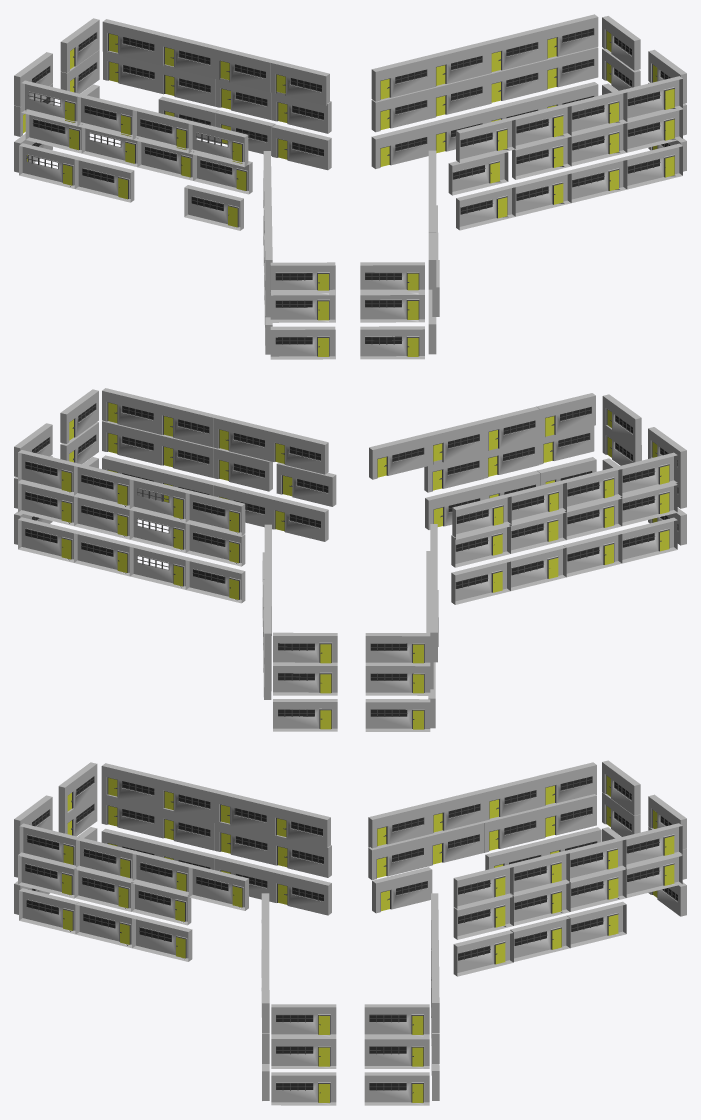
The model's file is appart.fbx.
The picture shows the model from 3 angles, top to bottom: view 1: azimuth 30°, elevation 25°; view 2: azimuth 150°, elevation 25°; view 3: azimuth 270°, elevation 25°; orthographic projection.
Parts seen in each view (by area): view 1: MSH_facade_porte_appartement_01__41_, MSH_facade_porte_appartement_01__40_, MSH_facade_porte_appartement_01__37_, MSH_facade_porte_appartement_01__38_, MSH_facade_porte_appartement_01__39_, MSH_facade_porte_appartement_01__36_, MSH_facade_porte_appartement_01__94_, MSH_facade_porte_appartement_01__74_, MSH_facade_porte_appartement_01__46_, MSH_facade_porte_appartement_01__58_, MSH_facade_porte_appartement_01__35_, MSH_facade_porte_appartement_01__70_ (+46 smaller); view 2: MSH_facade_porte_appartement_01__88_, MSH_facade_porte_appartement_01__86_, MSH_facade_porte_appartement_01__89_, MSH_facade_porte_appartement_01__87_, MSH_facade_porte_appartement_01__84_, MSH_facade_porte_appartement_01__71_, MSH_facade_porte_appartement_01__85_, MSH_facade_porte_appartement_01__47_, MSH_facade_porte_appartement_01__4_, MSH_facade_porte_appartement_01__53_, MSH_facade_porte_appartement_01__59_, MSH_facade_porte_appartement_01__54_ (+46 smaller); view 3: MSH_facade_porte_appartement_01__83_, MSH_facade_porte_appartement_01__82_, MSH_facade_porte_appartement_01__79_, MSH_facade_porte_appartement_01__78_, MSH_facade_porte_appartement_01__80_, MSH_facade_porte_appartement_01__81_, MSH_facade_porte_appartement_01__35_, MSH_facade_porte_appartement_01__8_, MSH_facade_porte_appartement_01__18_, MSH_facade_porte_appartement_01__55_, MSH_facade_porte_appartement_01__94_, MSH_facade_porte_appartement_01__6_ (+45 smaller).
Part boxes in pixels (box(x1,y1,x2,y2)): MSH_facade_porte_appartement_01__41_: box(270, 326, 335, 359); MSH_facade_porte_appartement_01__40_: box(360, 326, 424, 359); MSH_facade_porte_appartement_01__37_: box(360, 289, 424, 322); MSH_facade_porte_appartement_01__38_: box(270, 262, 335, 295); MSH_facade_porte_appartement_01__39_: box(270, 289, 335, 322); MSH_facade_porte_appartement_01__36_: box(360, 262, 424, 295); MSH_facade_porte_appartement_01__94_: box(184, 185, 243, 230); MSH_facade_porte_appartement_01__74_: box(623, 143, 682, 189); MSH_facade_porte_appartement_01__46_: box(371, 55, 430, 101); MSH_facade_porte_appartement_01__58_: box(623, 76, 682, 121); MSH_facade_porte_appartement_01__35_: box(272, 124, 331, 170); MSH_facade_porte_appartement_01__70_: box(371, 123, 430, 168); MSH_facade_porte_appartement_01__88_: box(365, 633, 430, 665); MSH_facade_porte_appartement_01__86_: box(365, 699, 430, 731); MSH_facade_porte_appartement_01__89_: box(273, 632, 337, 665); MSH_facade_porte_appartement_01__87_: box(273, 699, 337, 731); MSH_facade_porte_appartement_01__84_: box(365, 665, 430, 695); MSH_facade_porte_appartement_01__71_: box(18, 517, 77, 562); MSH_facade_porte_appartement_01__85_: box(273, 665, 337, 695); MSH_facade_porte_appartement_01__47_: box(18, 450, 77, 495); MSH_facade_porte_appartement_01__4_: box(369, 434, 428, 479); MSH_facade_porte_appartement_01__53_: box(507, 545, 566, 590); MSH_facade_porte_appartement_01__59_: box(269, 429, 328, 474); MSH_facade_porte_appartement_01__54_: box(618, 517, 677, 563); MSH_facade_porte_appartement_01__83_: box(271, 1072, 336, 1105); MSH_facade_porte_appartement_01__82_: box(364, 1072, 429, 1105); MSH_facade_porte_appartement_01__79_: box(271, 1004, 336, 1037); MSH_facade_porte_appartement_01__78_: box(364, 1004, 429, 1037); MSH_facade_porte_appartement_01__80_: box(364, 1037, 429, 1068); MSH_facade_porte_appartement_01__81_: box(271, 1037, 336, 1068); MSH_facade_porte_appartement_01__35_: box(453, 930, 513, 976); MSH_facade_porte_appartement_01__8_: box(75, 902, 135, 948); MSH_facade_porte_appartement_01__18_: box(453, 893, 513, 939); MSH_facade_porte_appartement_01__55_: box(271, 869, 331, 915); MSH_facade_porte_appartement_01__94_: box(372, 867, 432, 913); MSH_facade_porte_appartement_01__6_: box(18, 852, 77, 898).
Size of the model in its own units: 138 by 25.52 by 158.
